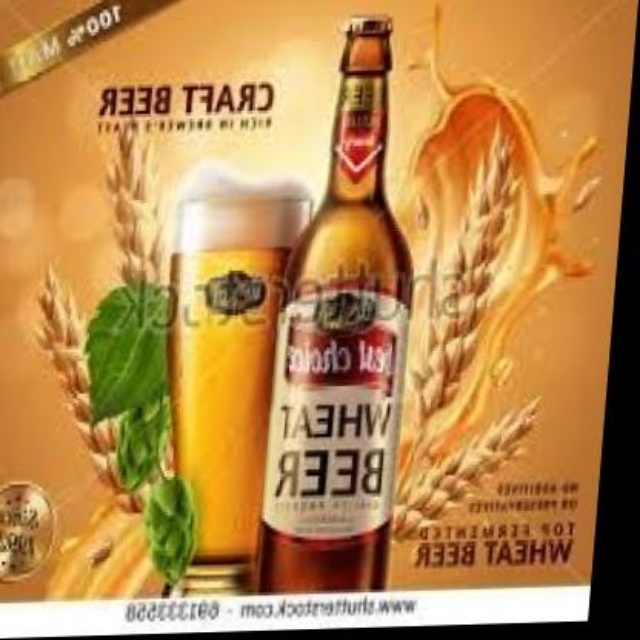trash: (258, 17, 411, 591), (172, 186, 309, 592)
